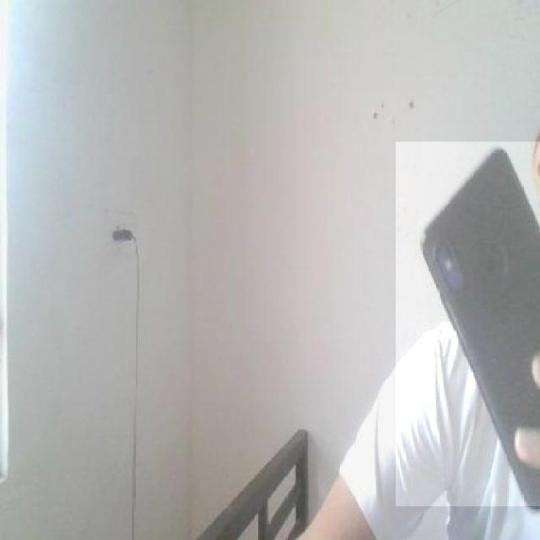phone: (399, 151, 540, 508)
